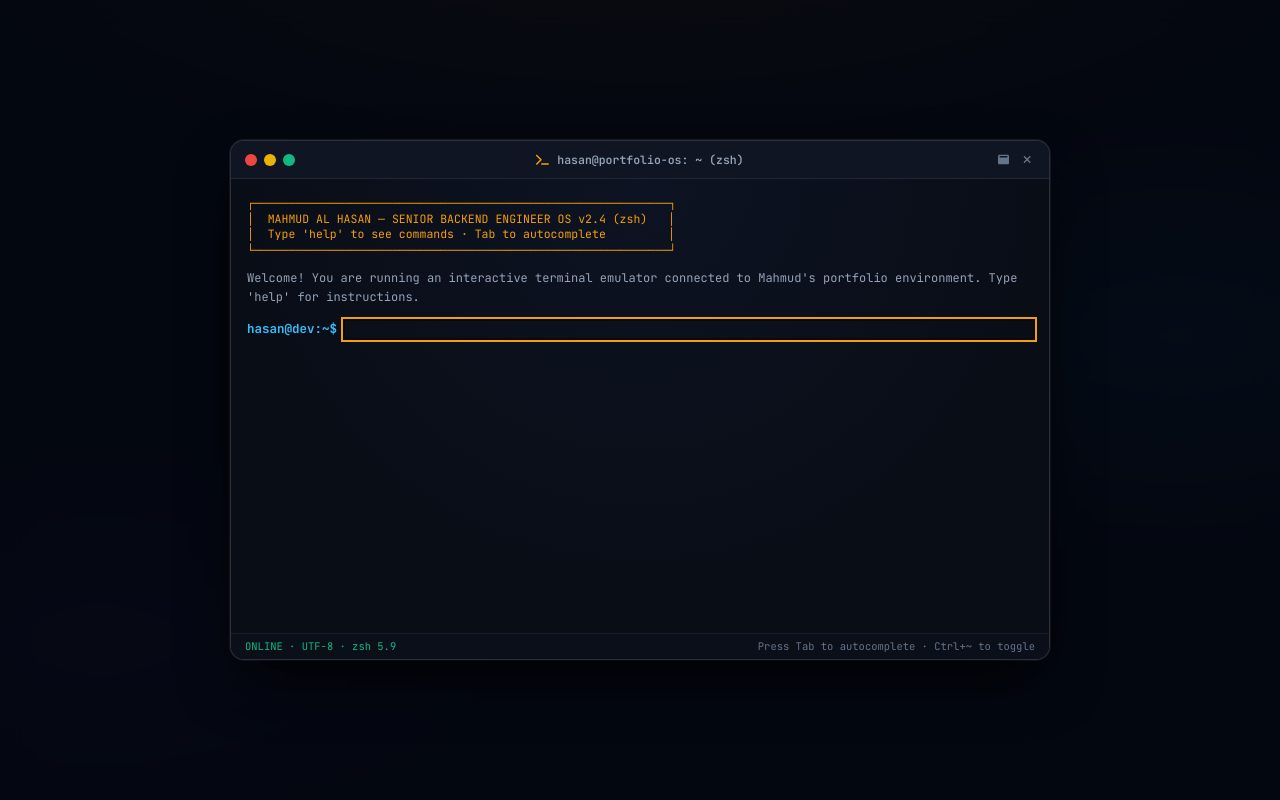
Test: Terminal Component › clears screen when clear command is executed
This screenshot has width=1280, height=800.
Type "clear" into the field named "Terminal command prompt" at (689, 329), box [345,321,1033,338]
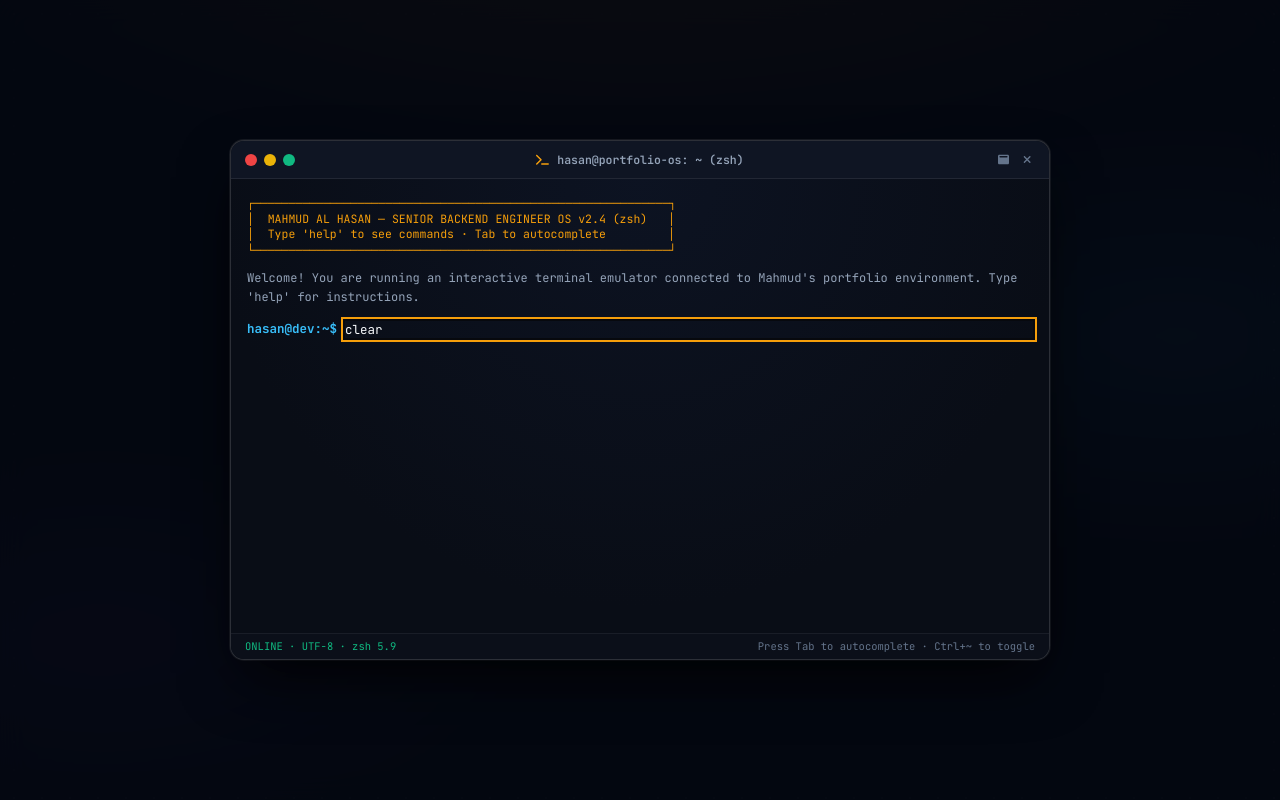
Press Enter in the field named "Terminal command prompt", box [345,321,1033,338]
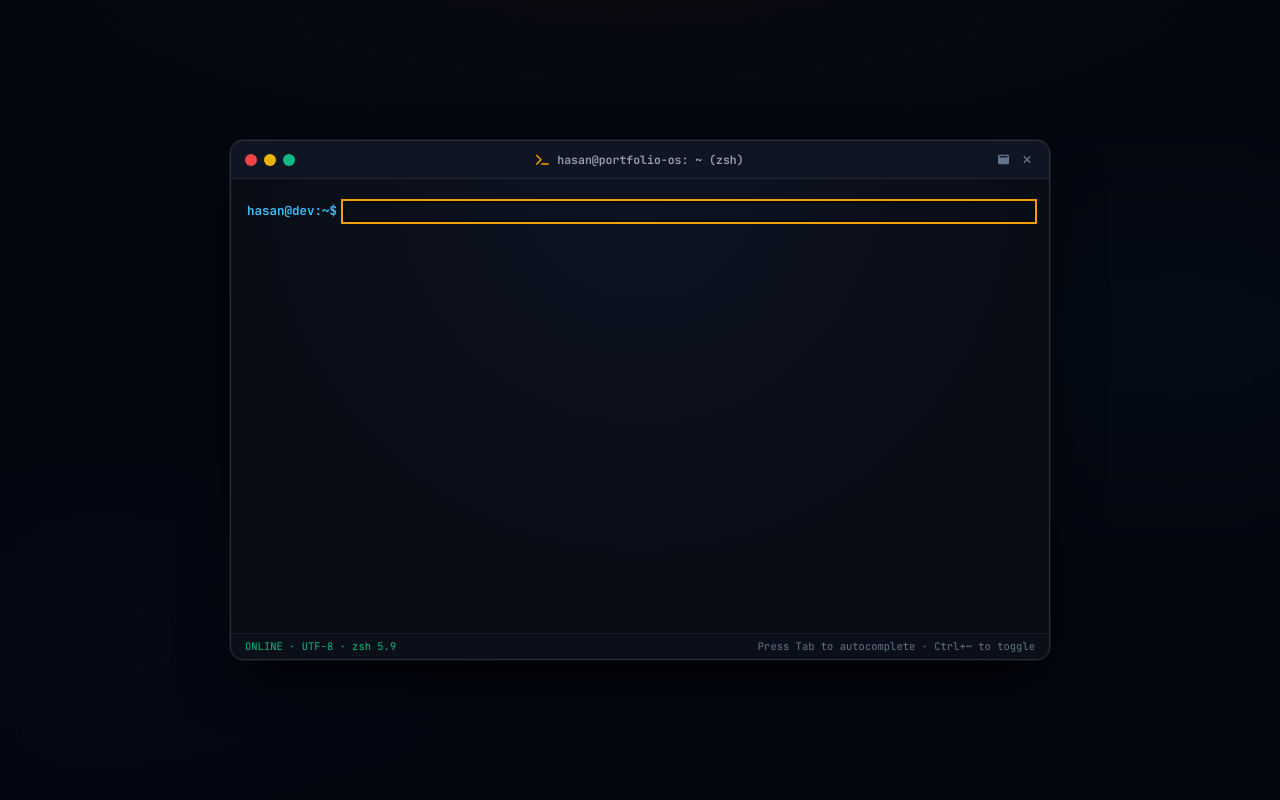
Expected: the text "MAHMUD AL HASAN" is gone
